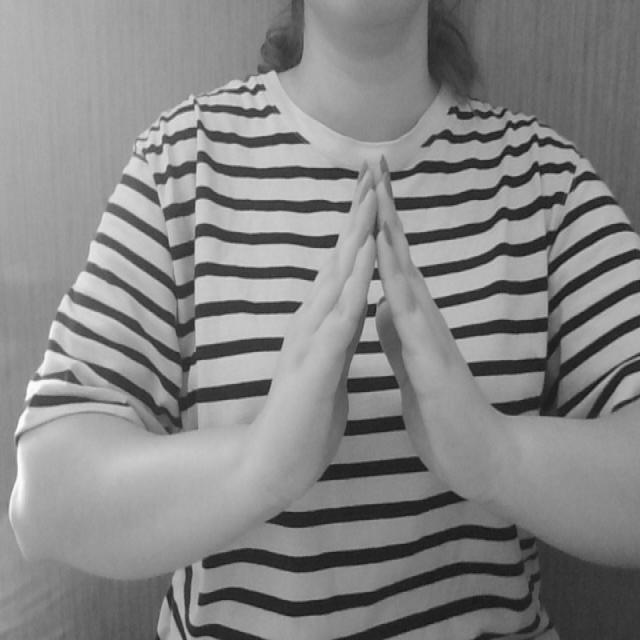Ev: (257, 147, 496, 503)
